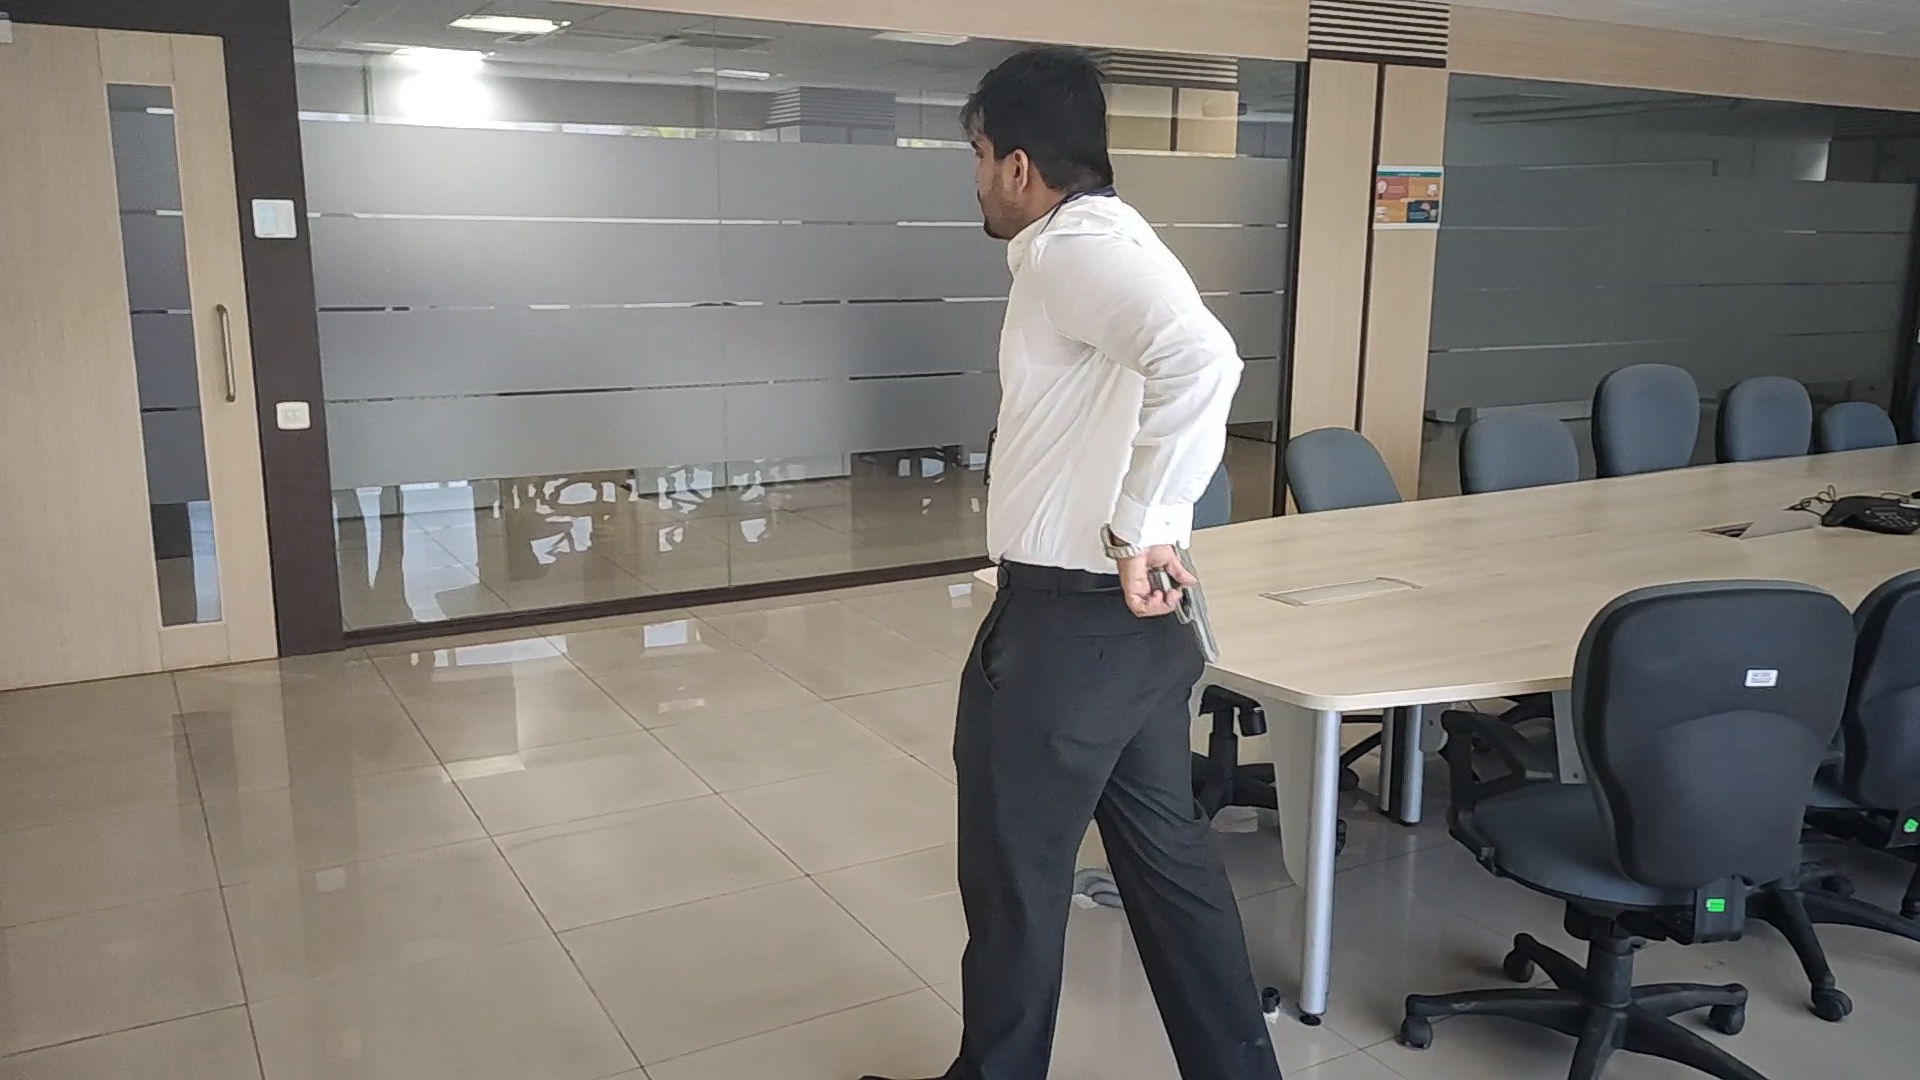gun: (1156, 542, 1222, 659)
